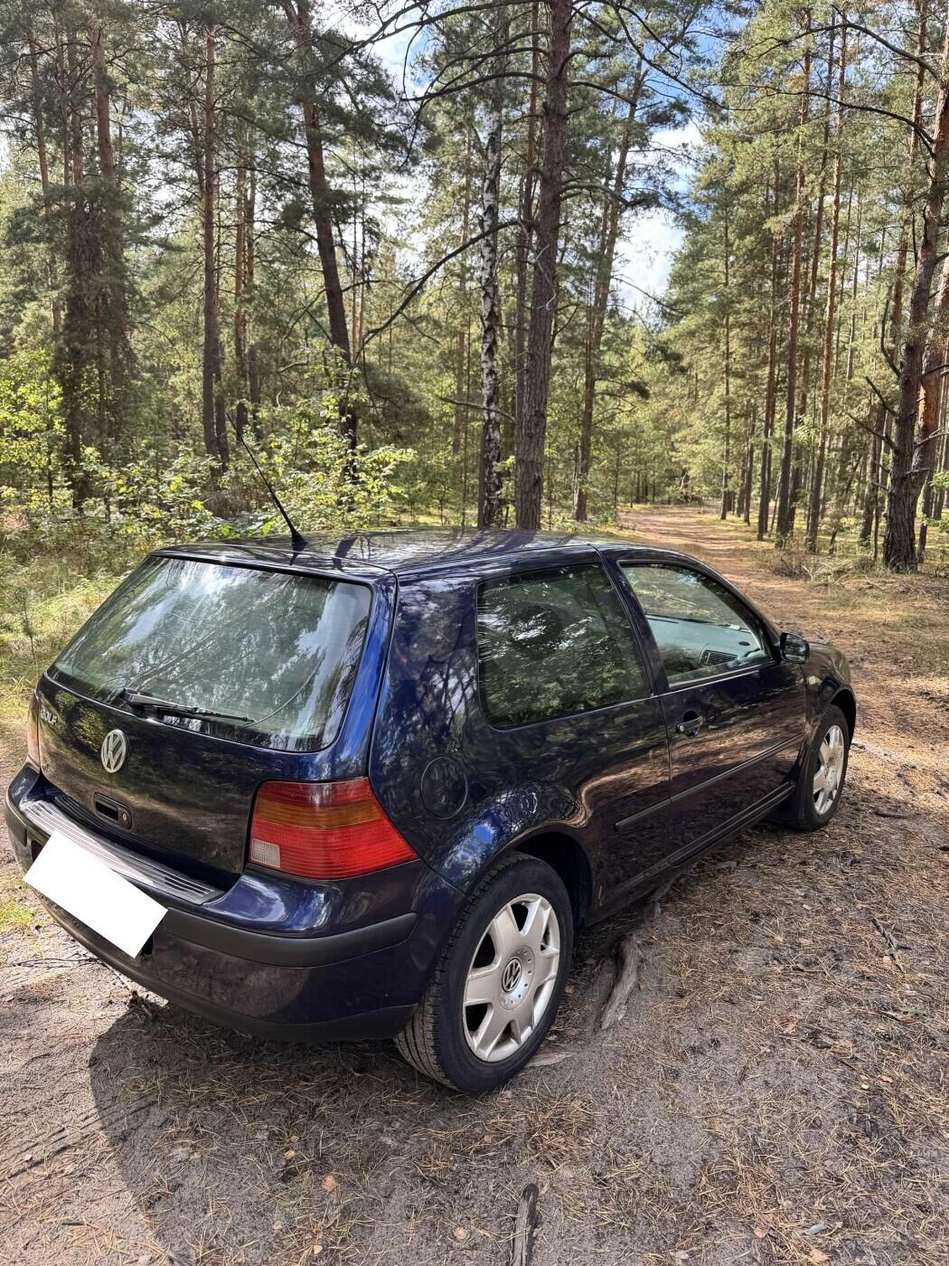Golf_1997-2006: (7, 529, 865, 1080)
